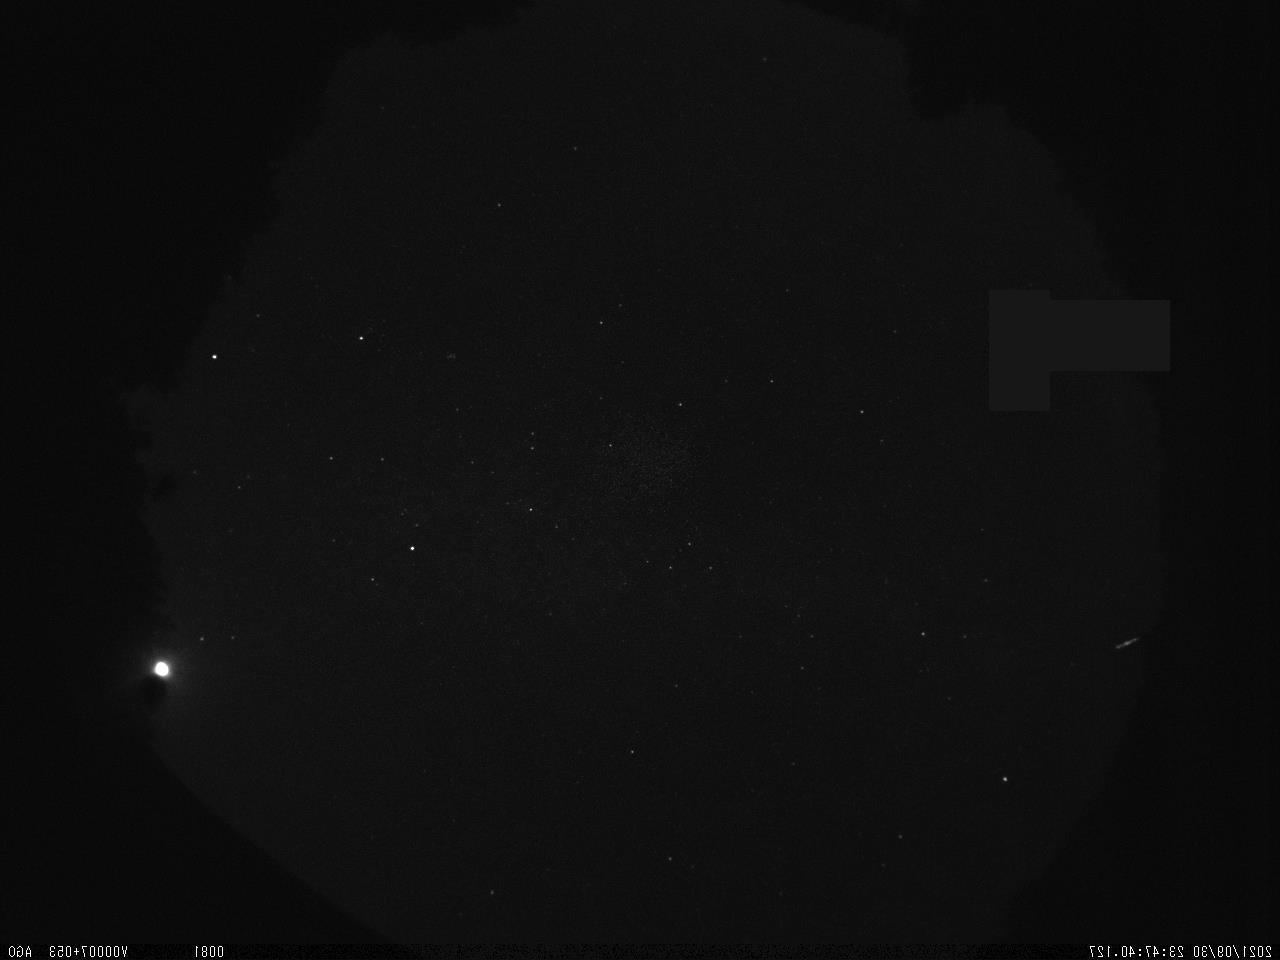meteor: (1107, 630, 1146, 658)
